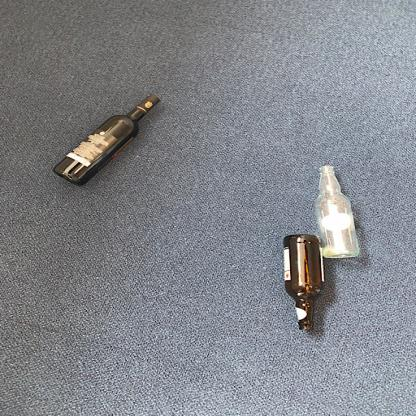trash: (46, 94, 168, 190), (279, 233, 329, 337), (318, 165, 368, 260)
